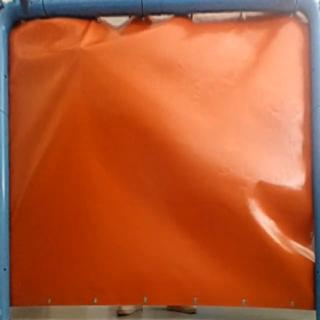Hit-hRxx: (72, 42, 91, 56)
